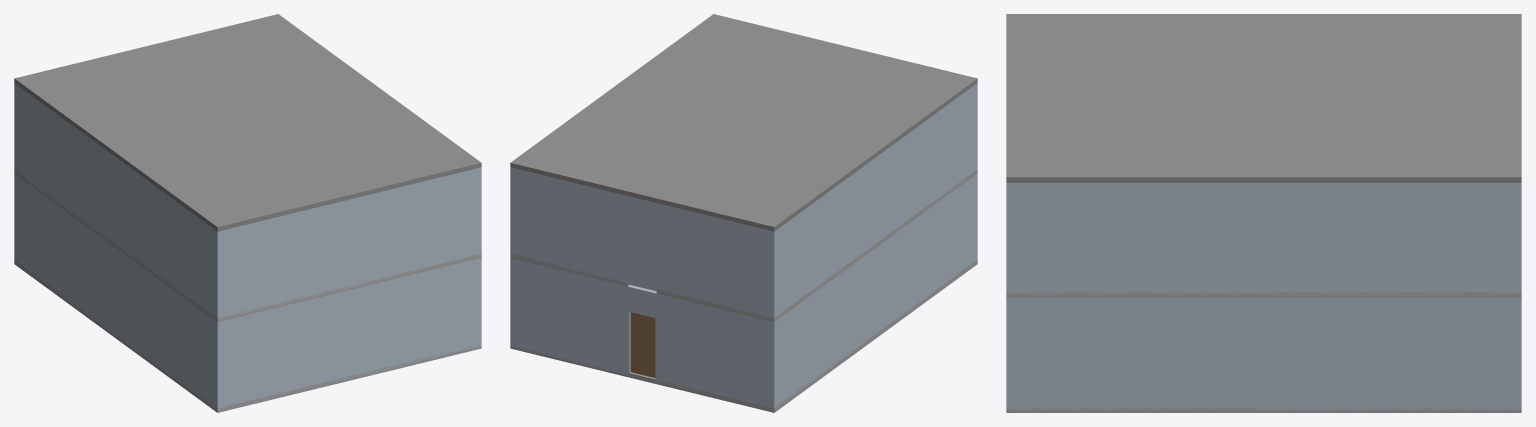
Rendered from house.glb.
The picture shows the model from 3 angles, left to right: view 1: azimuth 30°, elevation 25°; view 2: azimuth 150°, elevation 25°; view 3: azimuth 270°, elevation 25°; orthographic projection. The views are drawn at different scales.
Parts seen in each view (by area): view 1: roof_20, external_wall_11, external_wall_7, external_wall_12, external_wall_8, floor_slab_0, floor_slab_1, floor_slab_2; view 2: roof_20, external_wall_10, external_wall_12, external_wall_8, external_wall_4, external_wall_5, floor_slab_0, floor_slab_1, door_panel_19, external_wall_6, floor_slab_2; view 3: roof_20, external_wall_13, external_wall_9, floor_slab_2, floor_slab_0, external_wall_11, external_wall_5, external_wall_7, external_wall_10.
Boxes of the visible parts, x1=… form: roof_20: x1=14, y1=14, x2=481, y2=231; external_wall_11: x1=214, y1=167, x2=481, y2=319; external_wall_7: x1=214, y1=258, x2=481, y2=408; external_wall_12: x1=17, y1=85, x2=214, y2=316; external_wall_8: x1=17, y1=176, x2=214, y2=407; floor_slab_0: x1=14, y1=260, x2=481, y2=412; floor_slab_1: x1=14, y1=169, x2=335, y2=322; floor_slab_2: x1=364, y1=253, x2=481, y2=286; roof_20: x1=510, y1=14, x2=977, y2=231; external_wall_10: x1=510, y1=167, x2=777, y2=319; external_wall_12: x1=777, y1=85, x2=974, y2=314; external_wall_8: x1=777, y1=176, x2=974, y2=405; external_wall_4: x1=655, y1=292, x2=777, y2=408; external_wall_5: x1=510, y1=258, x2=631, y2=374; floor_slab_0: x1=510, y1=260, x2=977, y2=412; floor_slab_1: x1=656, y1=169, x2=977, y2=322; door_panel_19: x1=630, y1=312, x2=655, y2=377; external_wall_6: x1=629, y1=285, x2=656, y2=317; floor_slab_2: x1=510, y1=253, x2=629, y2=286; roof_20: x1=1006, y1=14, x2=1521, y2=182; external_wall_13: x1=1014, y1=183, x2=1513, y2=295; external_wall_9: x1=1014, y1=298, x2=1513, y2=409; floor_slab_2: x1=1006, y1=292, x2=1521, y2=297; floor_slab_0: x1=1006, y1=407, x2=1521, y2=412; external_wall_11: x1=1006, y1=183, x2=1014, y2=295; external_wall_5: x1=1513, y1=298, x2=1521, y2=409; external_wall_7: x1=1006, y1=298, x2=1014, y2=409; external_wall_10: x1=1513, y1=183, x2=1521, y2=295.
Bounding box in the file's own units: 9.14 × 6.15 × 12.19.
